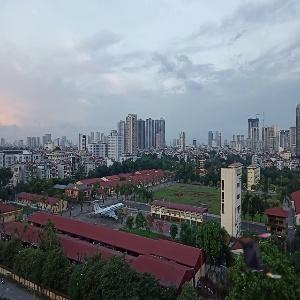drone: (226, 227, 287, 288)
